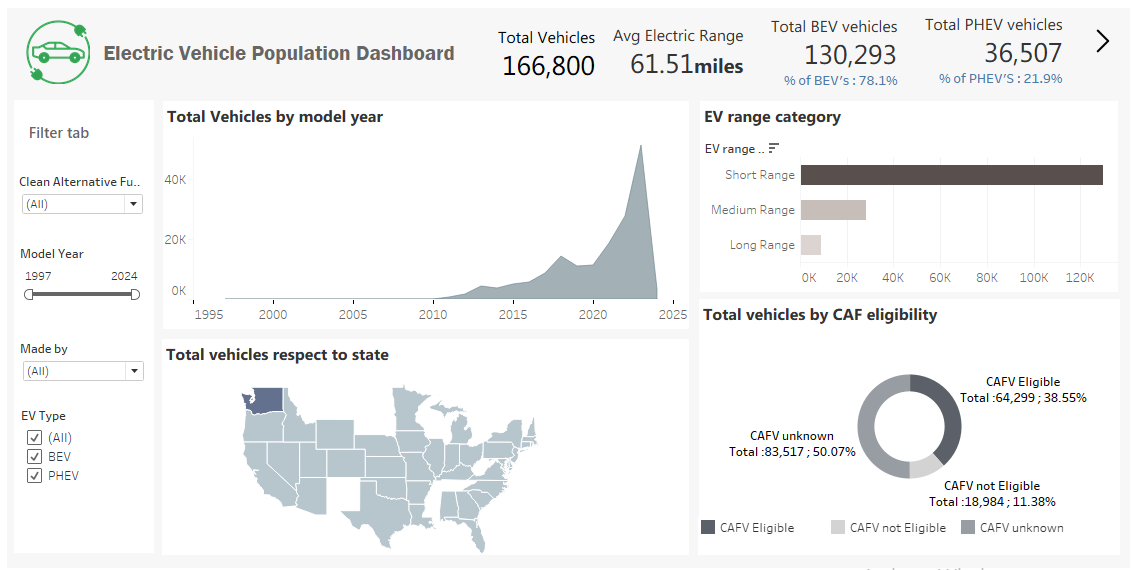

The page's visual inventory and layout, read from the dashboard file:
{"tool":"tableau","page":{"name":"EV details","canvas":[1000,1000],"units":"permille","ordinal":0},"visuals":[{"type":"worksheet","title":"Avg electric range","mark":"Automatic","box":[535.6,17.4,125.5,140.6]},{"type":"worksheet","title":"Total vehicles","mark":"Automatic","box":[419.7,20.8,113.3,145.8]},{"type":"worksheet","title":"Total PHEV vehicles","mark":"Automatic","box":[797.2,24.3,160.7,149.3]},{"type":"worksheet","title":"Total BEV vehicles","mark":"Automatic","box":[669.9,27.8,134.3,151]},{"type":"dashboard-object","box":[954.4,33,29,72.9]},{"type":"image","param":"C:/Users/acer/Downloads/electric-car.png","box":[19.3,35.5,65.8,111.9]},{"type":"text","box":[81.7,37.3,328.4,111.9]},{"type":"worksheet","title":"Total Vehicles by model year","mark":"Area","rows":["Calculation_571675722559143936"],"cols":["Model Year"],"box":[135,157.6,479.3,431.2]},{"type":"worksheet","title":"EV range category ","mark":"Bar","rows":["EV range category"],"cols":["Calculation_571675722559143936"],"box":[606.7,158.6,384.6,365.7]},{"type":"text","box":[23.7,194,94.8,69]},{"type":"filter","title":"Total vehicles by CAF eligibility","param":"[federated.02mqu400ak0gei1875x320p4oe3u].[none:Clean Alternative Fuel Vehicle (C","box":[17.6,300.4,111.5,85.8]},{"type":"filter","title":"Total Vehicles by model year","param":"[federated.02mqu400ak0gei1875x320p4oe3u].[none:Model Year:qk]","box":[18.4,425.4,108.9,125]},{"type":"worksheet","title":"Total vehicles by CAF eligibility","mark":"Pie","rows":["Calculation_479633405552201729","Calculation_479633405552201729"],"box":[605.8,501.9,387.2,414.2]},{"type":"worksheet","title":"Total vehicles respect to state","mark":"Automatic","box":[134.3,570.9,480.2,410.4]},{"type":"filter","title":"EV range category ","param":"[federated.02mqu400ak0gei1875x320p4oe3u].[none:Made by:nk]","box":[18.4,589.6,111.5,113.8]},{"type":"filter","title":"Total Vehicles by model year","param":"[federated.02mqu400ak0gei1875x320p4oe3u].[none:Electric Vehicle Type:nk]","box":[19.3,707.1,108,169.8]},{"type":"legend","title":"Total vehicles by CAF eligibility","param":"[federated.02mqu400ak0gei1875x320p4oe3u].[none:Clean Alternative Fuel Vehicle (C","box":[613.7,897.4,370.5,65.3]}]}

Visuals, with their boxes on the dashboard's canvas, which has no fixed pixel size, in thousandths of its width and height (x1, y1, x2, y2). These are canvas units, not pixel positions in the 1138x570 screenshot, which may show the page scaled, cropped or inside an application window:
"Avg electric range" worksheet: box=[536, 17, 661, 158]
"Total vehicles" worksheet: box=[420, 21, 533, 167]
"Total PHEV vehicles" worksheet: box=[797, 24, 958, 174]
"Total BEV vehicles" worksheet: box=[670, 28, 804, 179]
dashboard-object: box=[954, 33, 983, 106]
image: box=[19, 36, 85, 147]
text: box=[82, 37, 410, 149]
"Total Vehicles by model year" worksheet (Area marks): box=[135, 158, 614, 589]
"EV range category " worksheet (Bar marks): box=[607, 159, 991, 524]
text: box=[24, 194, 118, 263]
"Total vehicles by CAF eligibility" filter: box=[18, 300, 129, 386]
"Total Vehicles by model year" filter: box=[18, 425, 127, 550]
"Total vehicles by CAF eligibility" worksheet (Pie marks): box=[606, 502, 993, 916]
"Total vehicles respect to state" worksheet: box=[134, 571, 614, 981]
"EV range category " filter: box=[18, 590, 130, 703]
"Total Vehicles by model year" filter: box=[19, 707, 127, 877]
"Total vehicles by CAF eligibility" legend: box=[614, 897, 984, 963]
